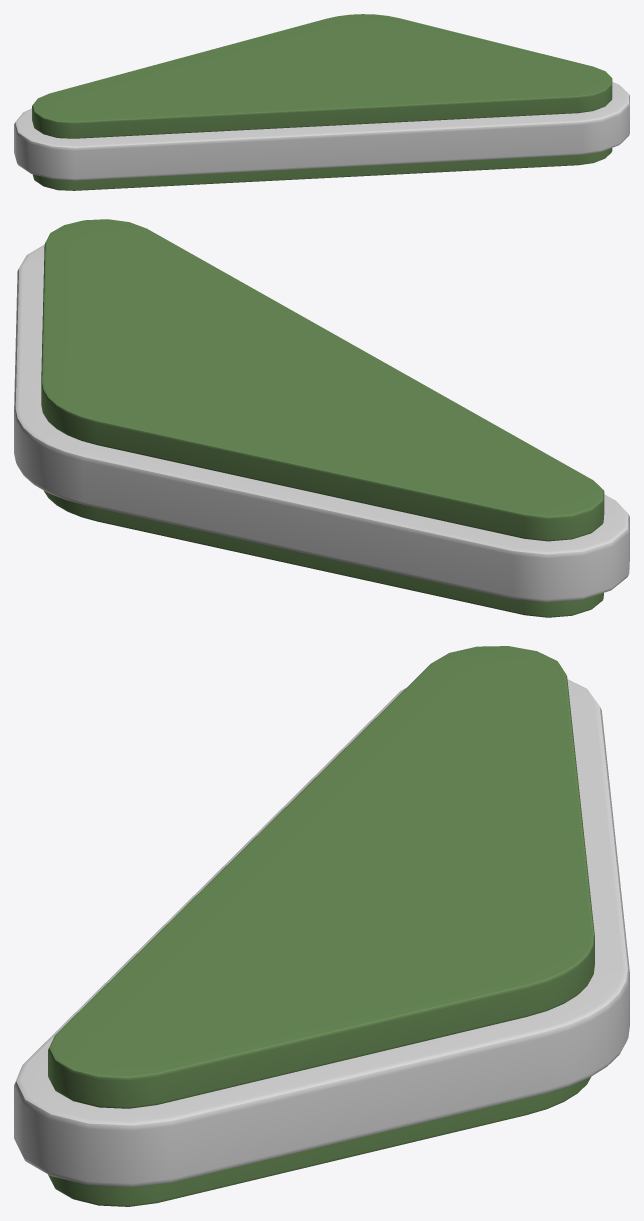
File: Slingshot.fbx
3 views of the same model, one above another, from view 1: azimuth 30°, elevation 25°; view 2: azimuth 150°, elevation 25°; view 3: azimuth 270°, elevation 25° (orthographic). The views are drawn at different scales.
Parts seen in each view (by area): view 1: Slingshot; view 2: Slingshot; view 3: Slingshot.
Boxes of the visible parts, bbox=[...] form: Slingshot: bbox=[14, 14, 629, 190]; Slingshot: bbox=[14, 219, 629, 617]; Slingshot: bbox=[14, 646, 629, 1206].
Size of the model in its own units: 0.3341 by 0.0442 by 0.1885.
